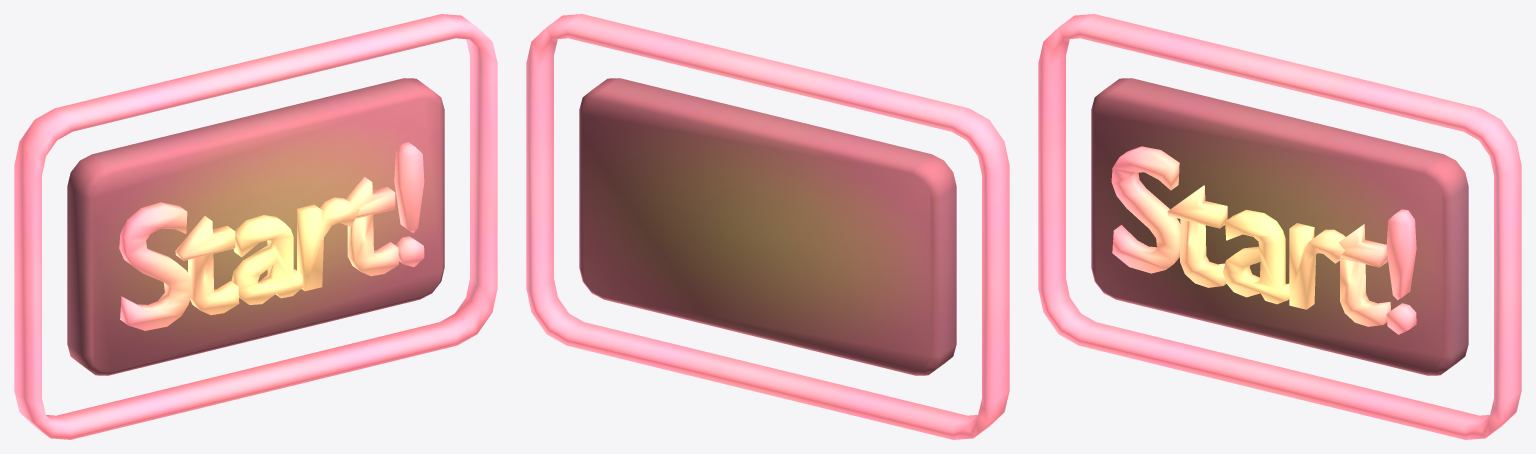
The model's file is startButton.glb.
The picture shows the model from 3 angles, left to right: view 1: azimuth 30°, elevation 25°; view 2: azimuth 150°, elevation 25°; view 3: azimuth 330°, elevation 25°; orthographic projection.
Parts seen in each view (by area): view 1: StartButton; view 2: StartButton; view 3: StartButton.
Boxes of the visible parts, box(x1,y1,x2,y2) form: StartButton: box(14, 14, 497, 439); StartButton: box(526, 14, 1009, 439); StartButton: box(1038, 14, 1521, 439).
Size of what is drawn, in the model's own units: 1.8 by 1.18 by 0.2117.
Materials: 2 (2 with a texture image).
